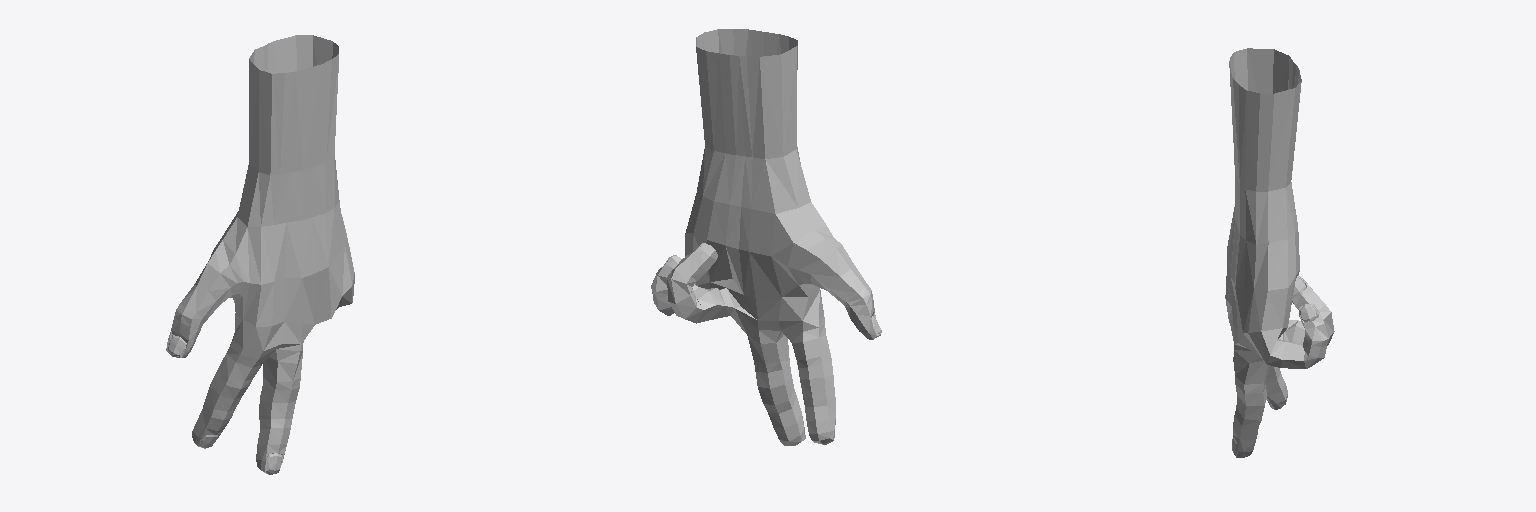
Rendered from handAnimated4_000054.obj.
3 views of the same model, side by side, from view 1: azimuth 30°, elevation 25°; view 2: azimuth 150°, elevation 25°; view 3: azimuth 270°, elevation 25° (orthographic).
Visible parts, largest first — view 1: Cube.000_Cube.017_Detached_Detached; view 2: Cube.000_Cube.017_Detached_Detached; view 3: Cube.000_Cube.017_Detached_Detached.
Part boxes in pixels (bbox=[...]): Cube.000_Cube.017_Detached_Detached: bbox=[166, 35, 354, 474]; Cube.000_Cube.017_Detached_Detached: bbox=[651, 29, 881, 445]; Cube.000_Cube.017_Detached_Detached: bbox=[1225, 48, 1334, 457].
Bounding box in the file's own units: 0.69 × 1.33 × 0.3273.